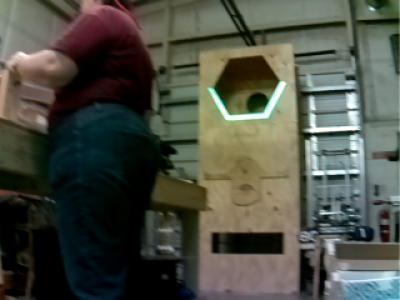target: (206, 81, 287, 121)
